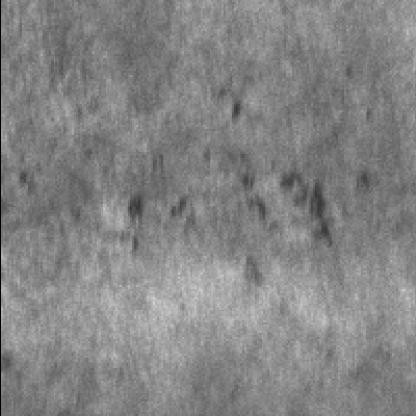rolled-in_scale: (90, 136, 380, 270)
